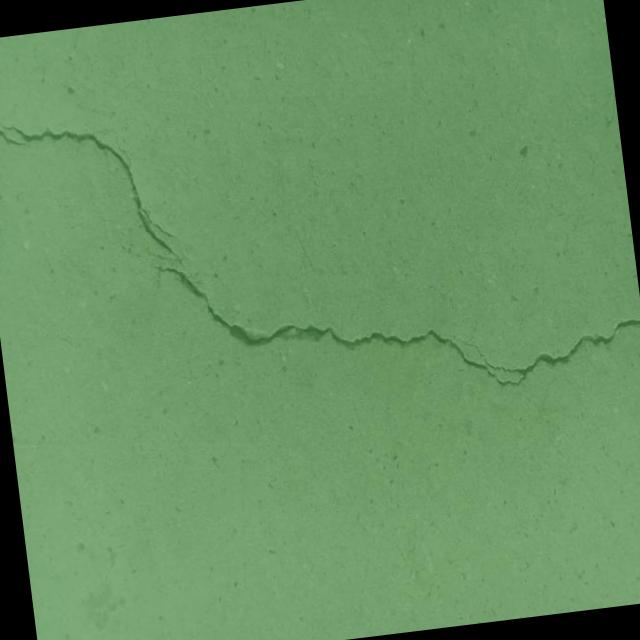crack: (153, 205, 640, 428), (0, 99, 190, 288), (578, 91, 624, 180)
